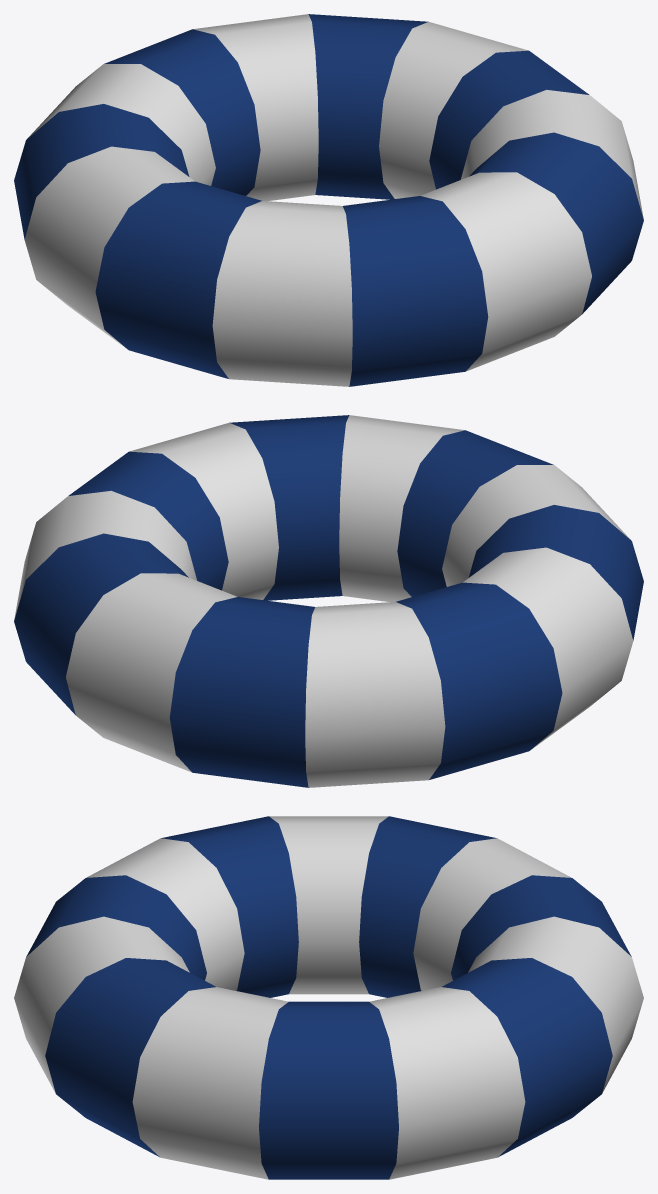
Rendered from RubberBuoy_2.FBX.
The picture shows the model from 3 angles, top to bottom: view 1: azimuth 30°, elevation 25°; view 2: azimuth 150°, elevation 25°; view 3: azimuth 270°, elevation 25°; orthographic projection.
Visible parts, largest first — view 1: RubberBuoy2; view 2: RubberBuoy2; view 3: RubberBuoy2.
Part boxes in pixels (bbox=[...]): RubberBuoy2: bbox=[14, 14, 643, 386]; RubberBuoy2: bbox=[14, 415, 643, 787]; RubberBuoy2: bbox=[14, 816, 643, 1179].
Bounding box in the file's own units: 5.34 × 1.56 × 5.47.
